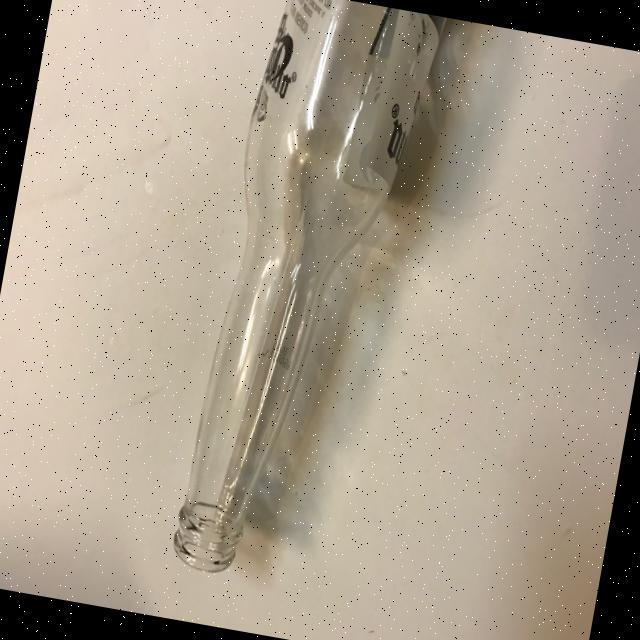glass: (167, 0, 445, 596)
